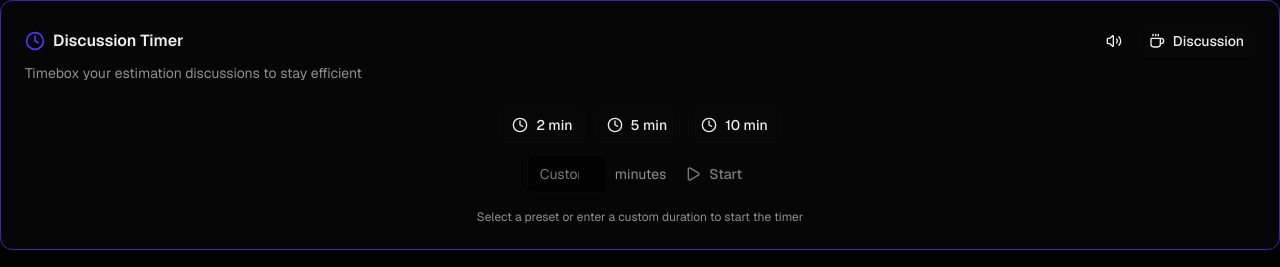
Test: DiscussionTimer › Break Mode › should toggle to break mode
Click the button "Discussion". click: (1196, 41)
box: [1138,25,1255,57]
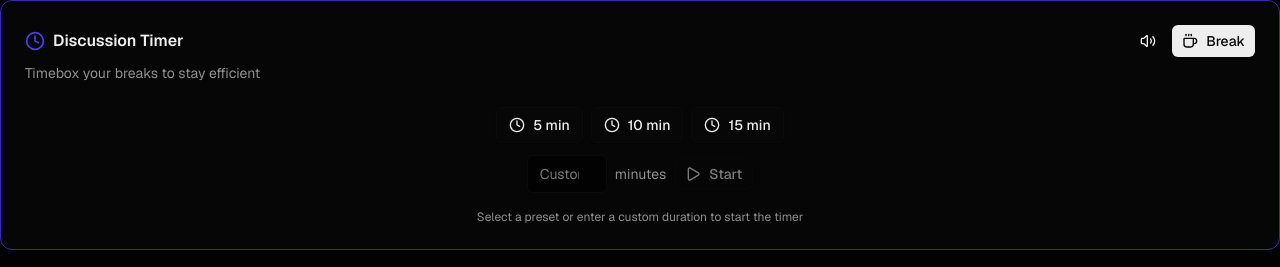
Expected: the button "Break" is shown, [1172,25,1255,57]
